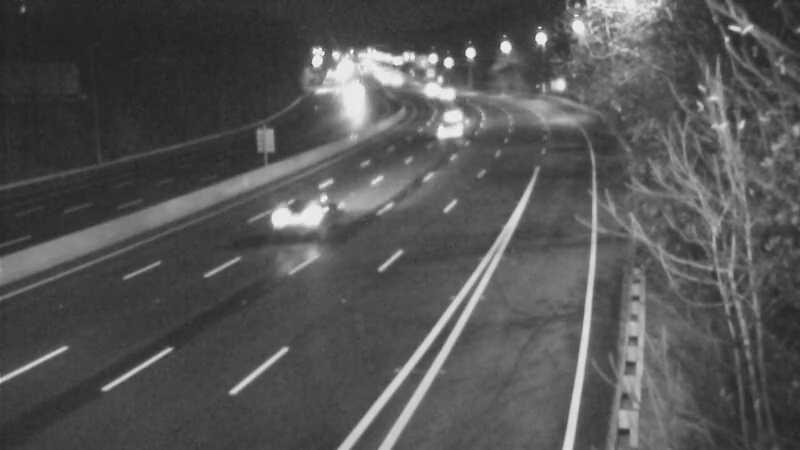vehicle: (257, 178, 337, 258), (399, 64, 449, 114), (417, 73, 467, 123), (431, 95, 481, 145), (327, 75, 377, 125)
